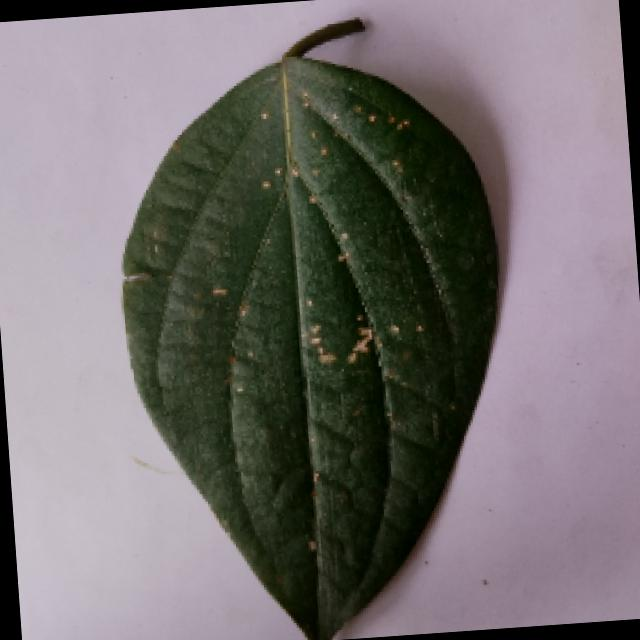pollu-disease: (33, 21, 576, 640)
